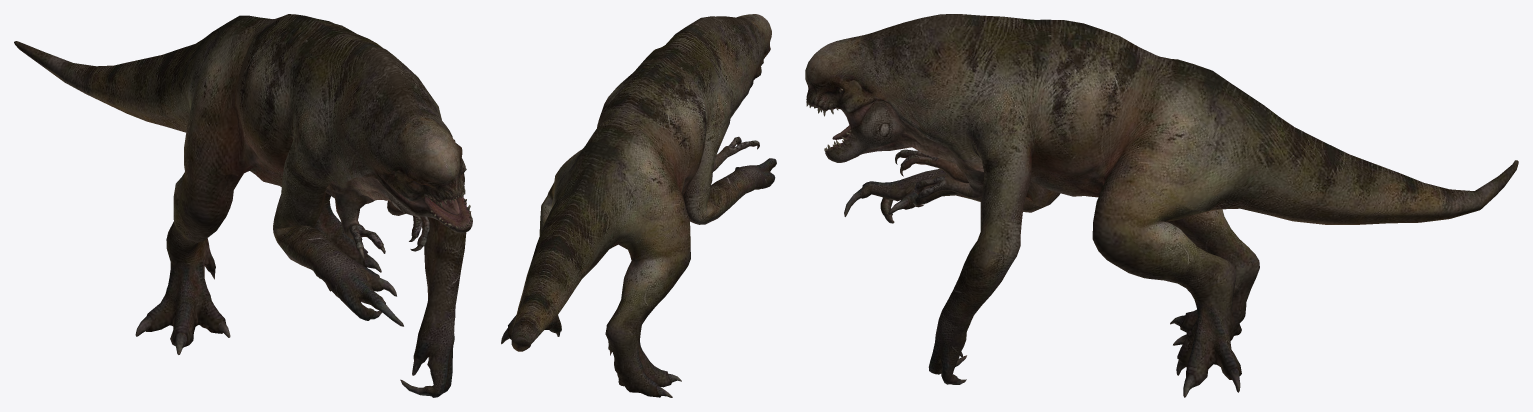
The model's file is posed_distortus_rex.glb.
3 renders of one model, left to right at view 1: azimuth 30°, elevation 25°; view 2: azimuth 150°, elevation 25°; view 3: azimuth 270°, elevation 25°, orthographic. The views are drawn at different scales.
Visible parts, largest first — view 1: Mesh_Mat_Ludia_DinoDefault_0_1; view 2: Mesh_Mat_Ludia_DinoDefault_0_1; view 3: Mesh_Mat_Ludia_DinoDefault_0_1.
Boxes of the visible parts, box(x1,y1,x2,y2) form: Mesh_Mat_Ludia_DinoDefault_0_1: box(14, 14, 472, 397); Mesh_Mat_Ludia_DinoDefault_0_1: box(501, 14, 776, 397); Mesh_Mat_Ludia_DinoDefault_0_1: box(805, 14, 1518, 397).
Size of the model in its own units: 5.11 by 7.91 by 14.52.
1 material, 1 textured.
